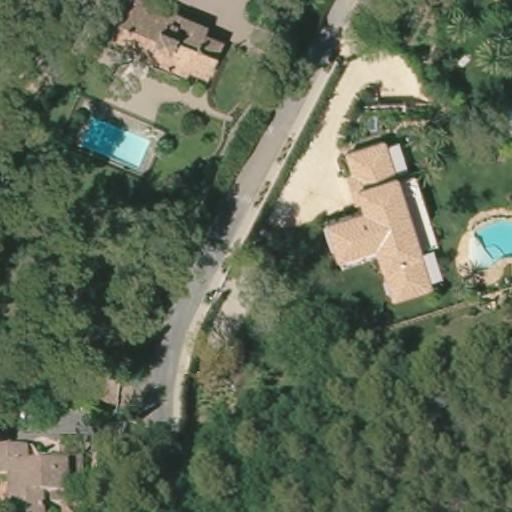pool: (73, 111, 151, 176), (466, 209, 511, 264)
